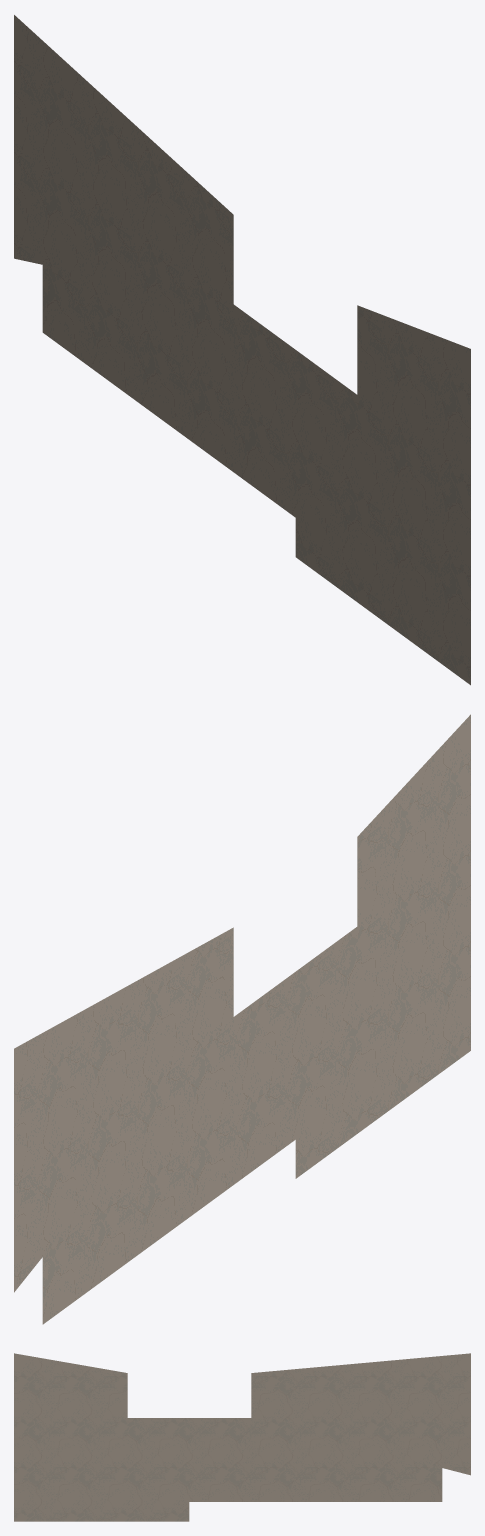
File: kd_stage_135b75_4_158_bounded_portal_piece_0.glb
3 renders of one model, top to bottom at view 1: azimuth 30°, elevation 25°; view 2: azimuth 150°, elevation 25°; view 3: azimuth 270°, elevation 25°, orthographic. The views are drawn at different scales.
Parts seen in each view (by area): view 1: kd_stage_135b75_4_158_bounded_portal_piece_0; view 2: kd_stage_135b75_4_158_bounded_portal_piece_0; view 3: kd_stage_135b75_4_158_bounded_portal_piece_0.
Boxes of the visible parts, x1,y1,x2,y2 form: kd_stage_135b75_4_158_bounded_portal_piece_0: [14, 15, 470, 685]; kd_stage_135b75_4_158_bounded_portal_piece_0: [14, 714, 470, 1324]; kd_stage_135b75_4_158_bounded_portal_piece_0: [14, 1353, 470, 1521].
Size of the model in its own units: 0 by 1.5 by 3.7.
Materials: 1 (1 with a texture image).
